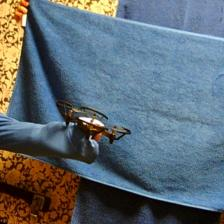drone: (58, 100, 132, 148)
